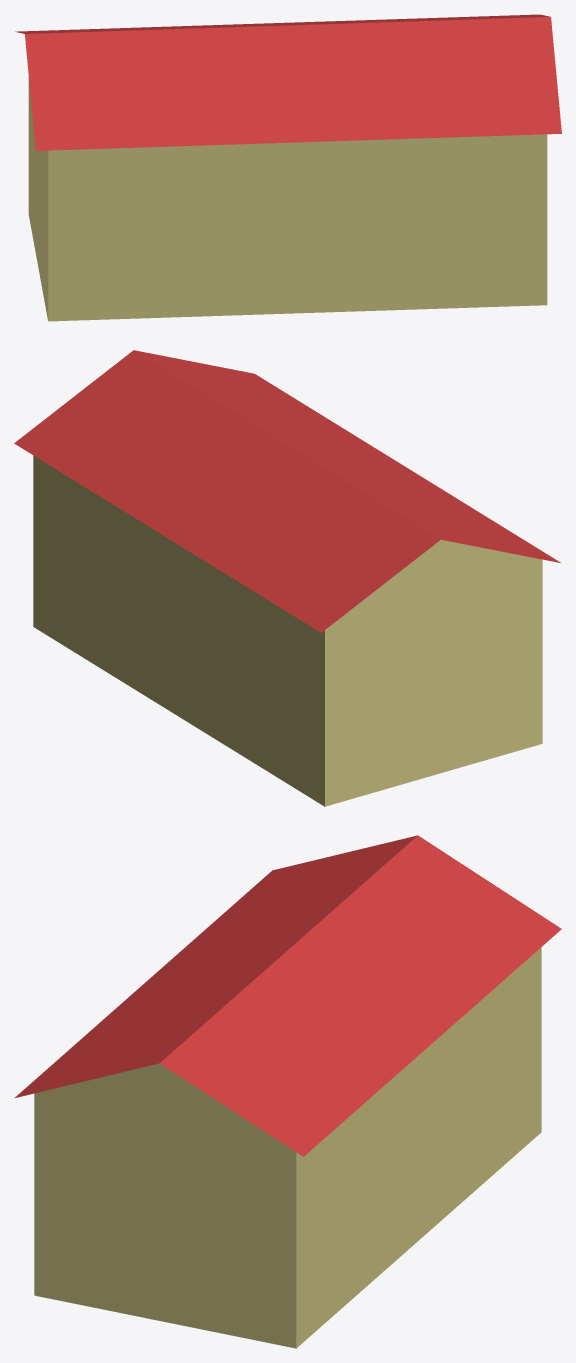
The picture shows the model from 3 angles, top to bottom: view 1: azimuth 30°, elevation 25°; view 2: azimuth 150°, elevation 25°; view 3: azimuth 270°, elevation 25°; orthographic projection. The views are drawn at different scales.
Bounding box in the file's own units: 22.14 × 17.89 × 9.54.
